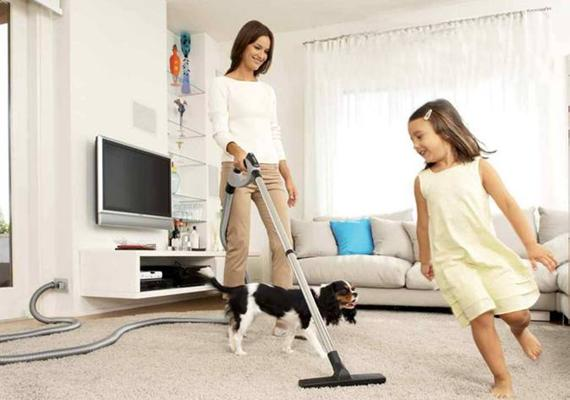person: (211, 19, 298, 337)
